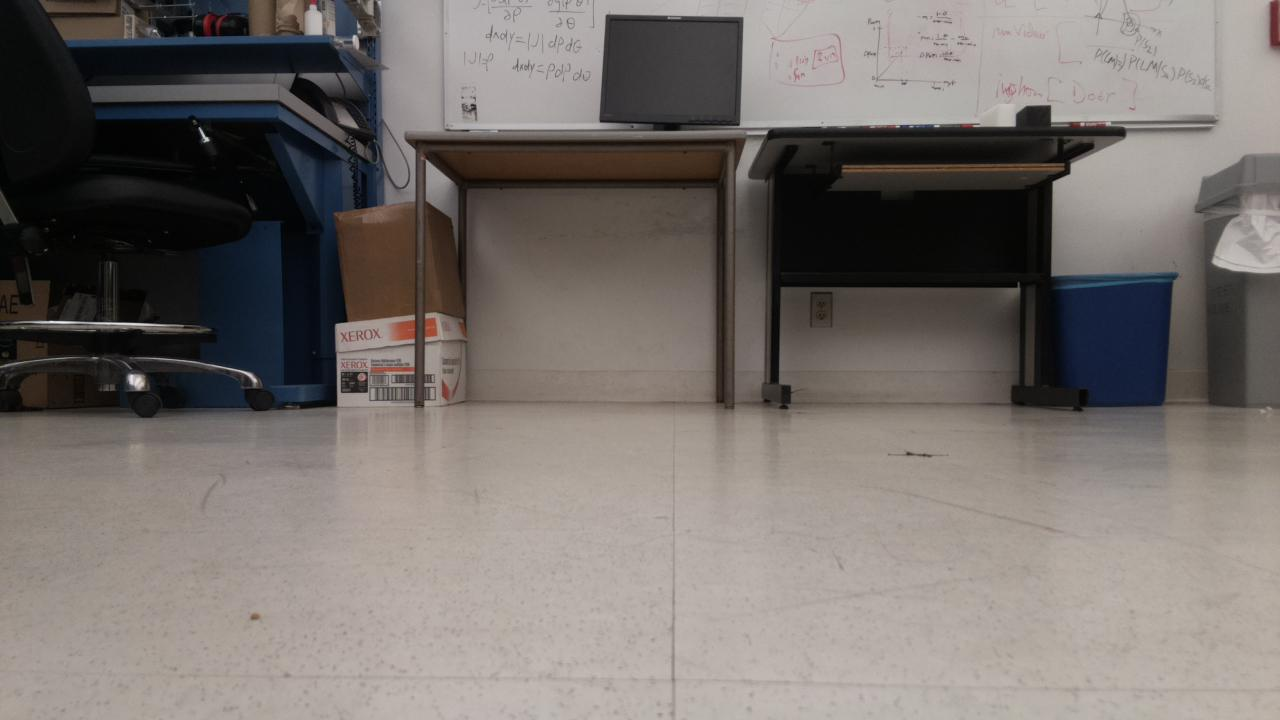tvmonitor: (601, 15, 742, 122)
